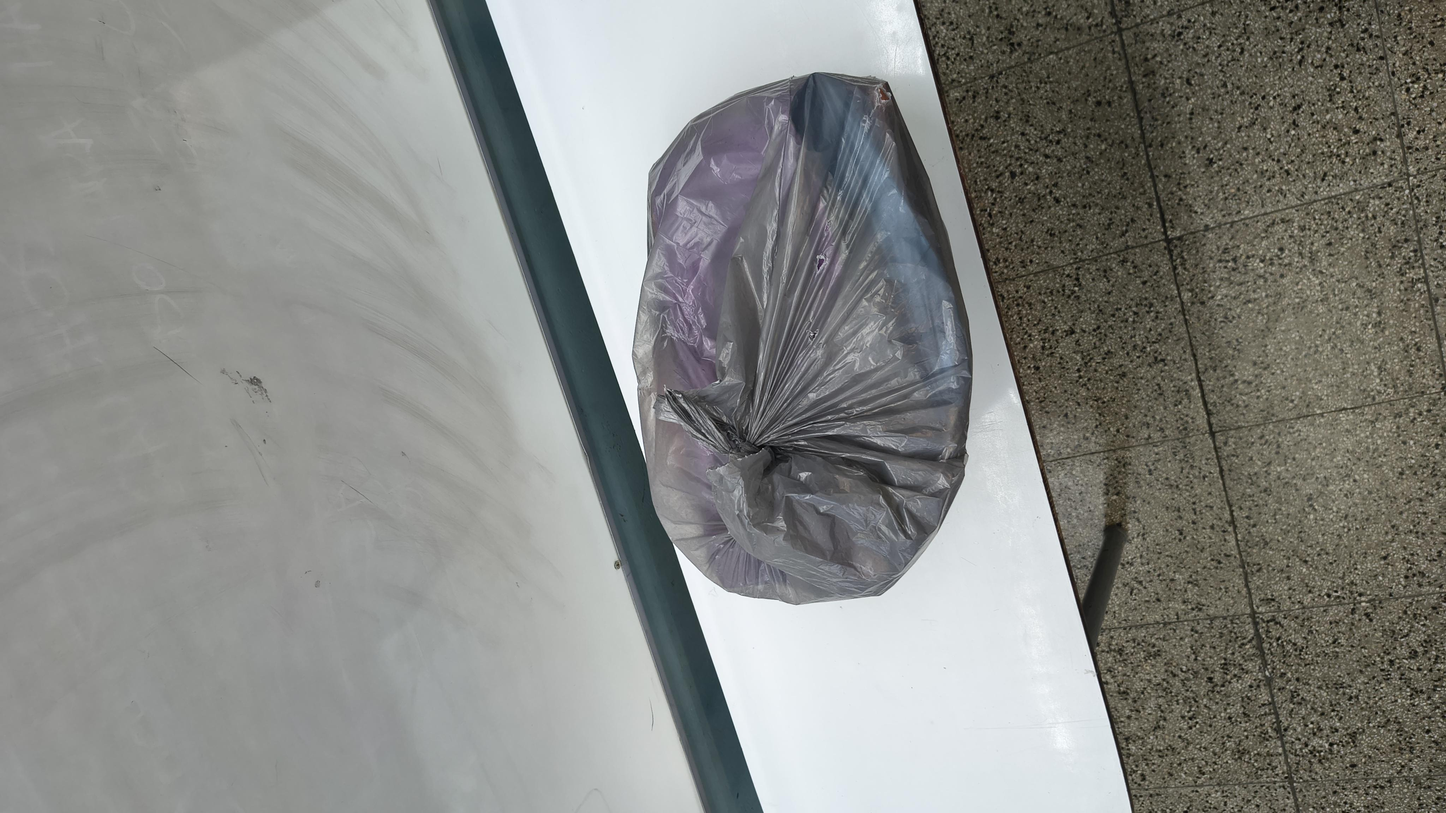Garbage: (320, 345, 1446, 546)
